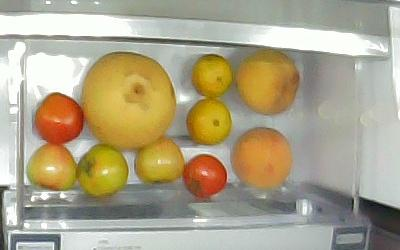peach: (234, 48, 300, 116), (230, 126, 292, 188)
pear: (81, 52, 176, 151)
tangerine: (186, 100, 232, 146), (192, 54, 232, 98)
tomato: (77, 144, 129, 199), (35, 92, 84, 144), (25, 143, 77, 190), (134, 136, 184, 183), (183, 154, 227, 197)
